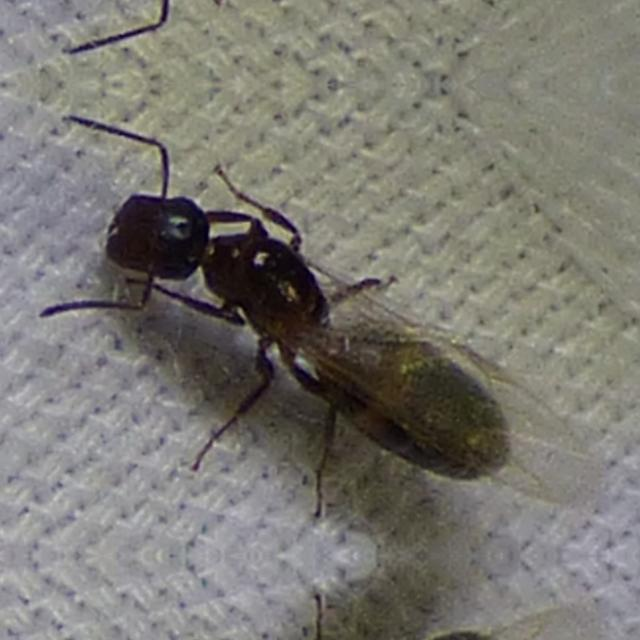Colobopsis: (48, 124, 576, 536)
